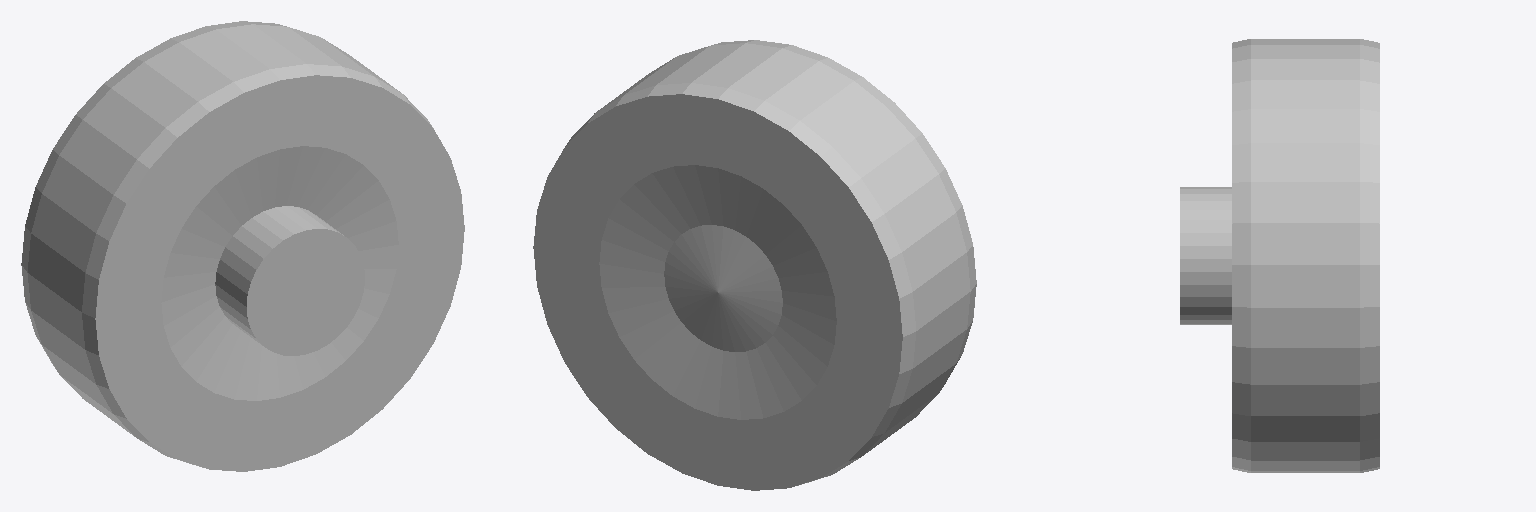
The model's file is wheels_truck_wheel.obj.
3 renders of one model, left to right at view 1: azimuth 30°, elevation 25°; view 2: azimuth 150°, elevation 25°; view 3: azimuth 270°, elevation 25°, orthographic.
Parts seen in each view (by area): view 1: Cylinder; view 2: Cylinder; view 3: Cylinder.
Boxes of the visible parts, <box> form: Cylinder: <box>21,21,464,471</box>; Cylinder: <box>533,40,976,490</box>; Cylinder: <box>1180,39,1379,472</box>.
Bounding box in the file's own units: 1.9 × 1.9 × 0.871.